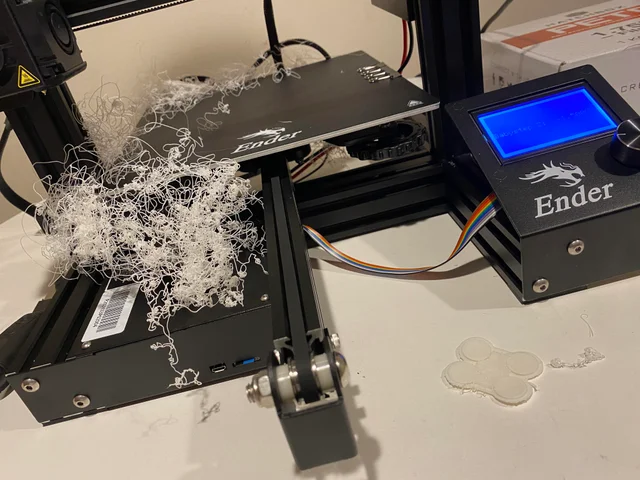Spaghetti: (16, 36, 338, 409)
